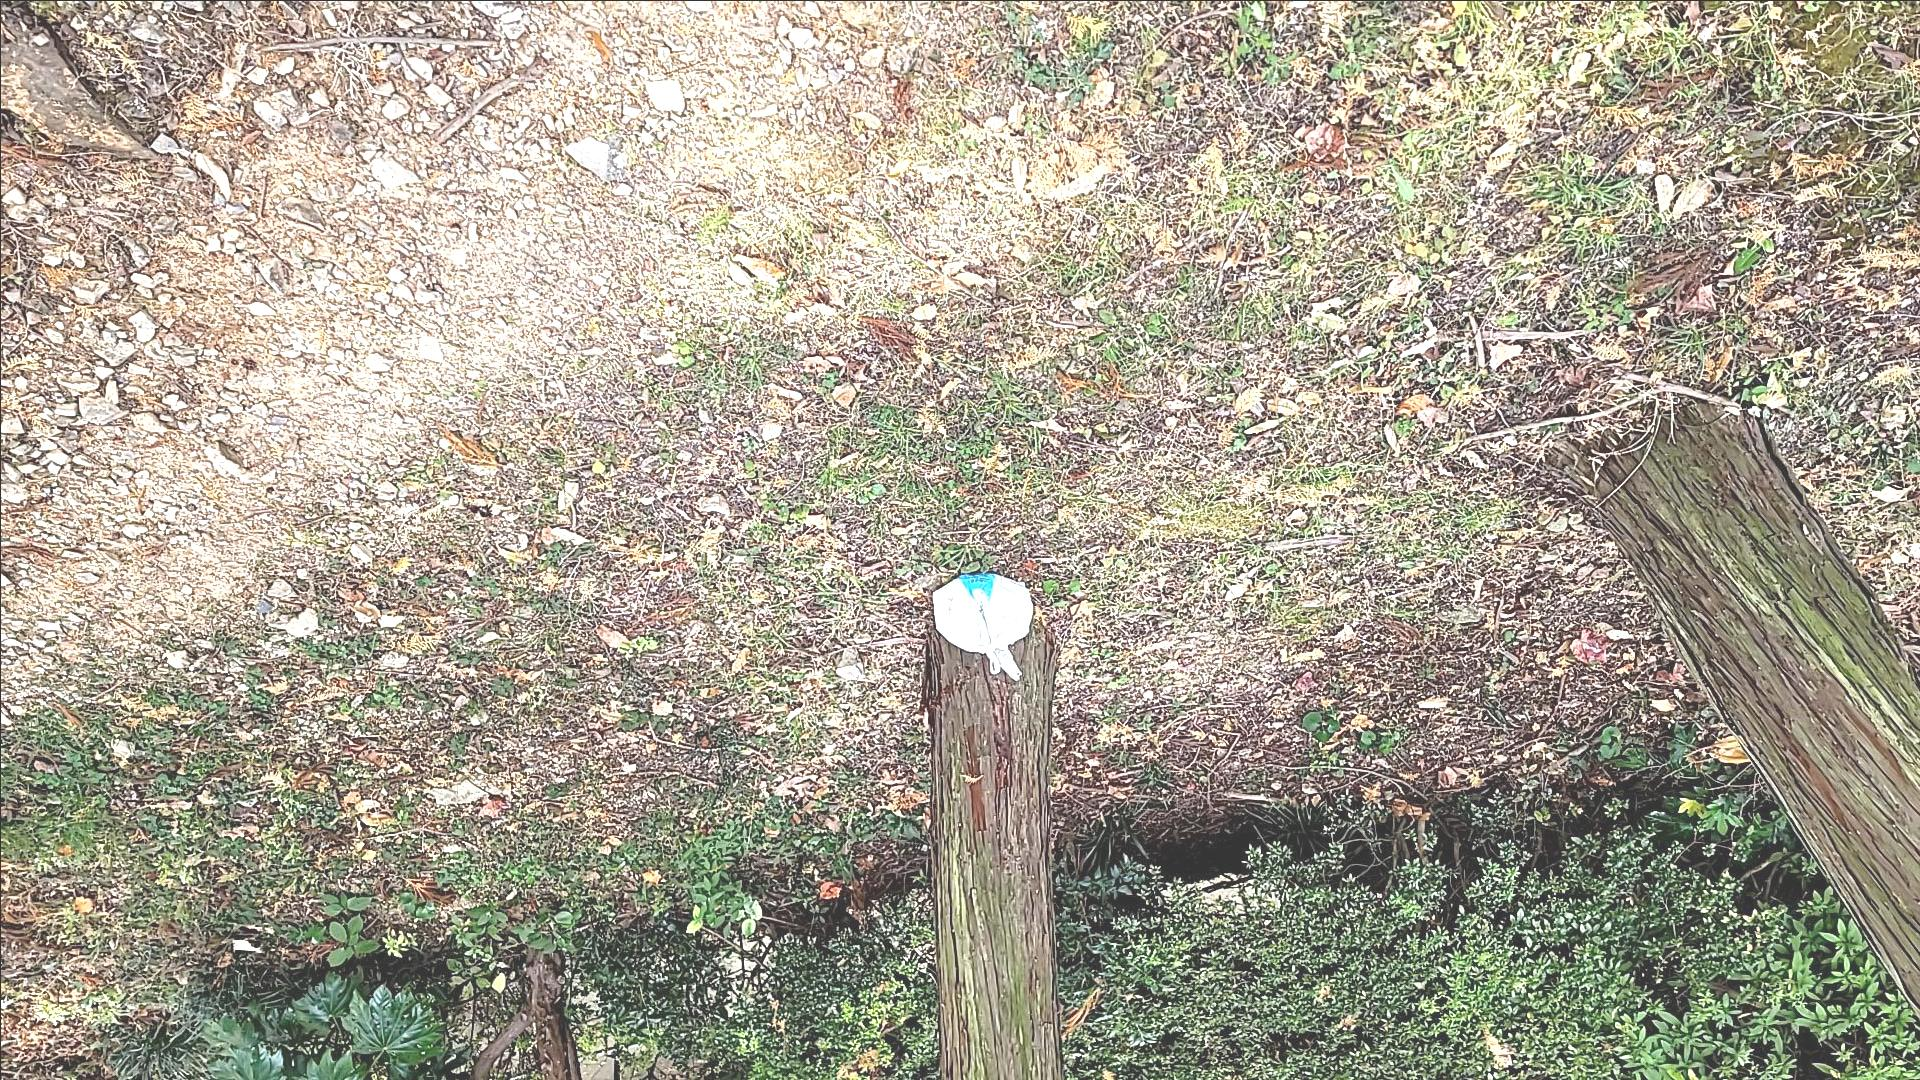white_bag: (920, 567, 1044, 684)
